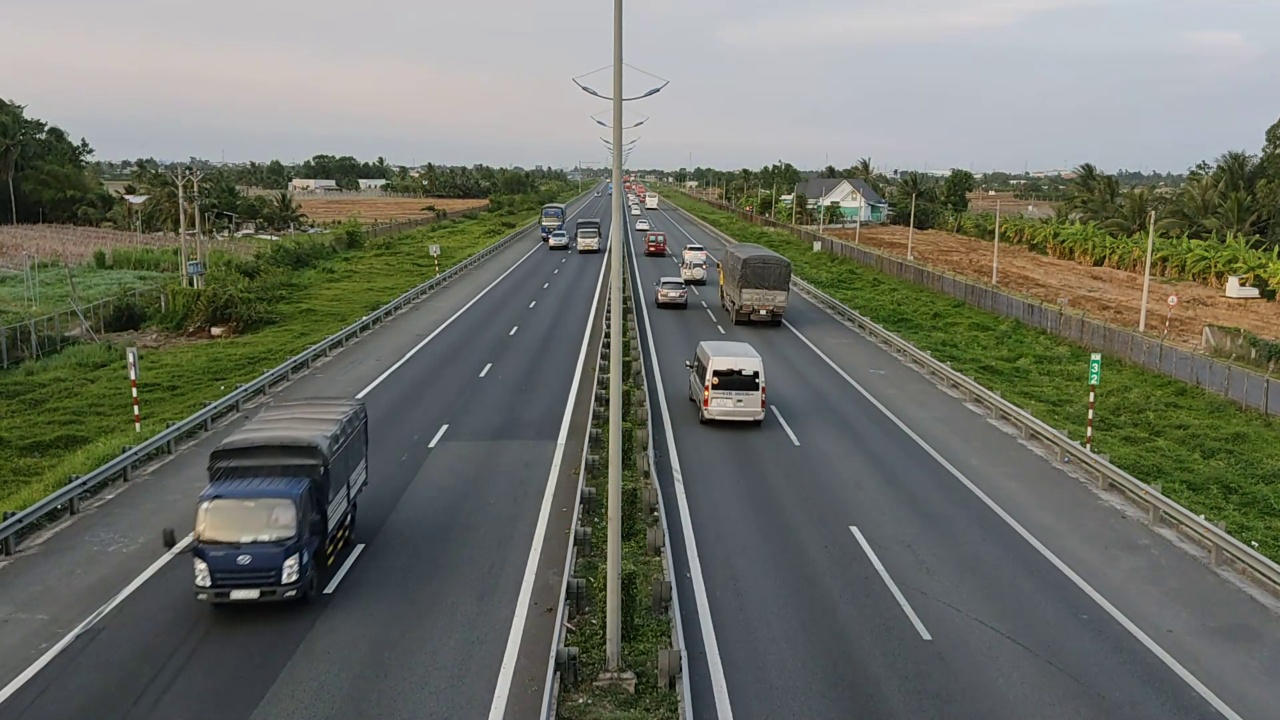car: (654, 277, 689, 309), (643, 231, 669, 256)
truck: (189, 395, 369, 607), (719, 241, 792, 325), (681, 243, 709, 284), (576, 220, 602, 253)
